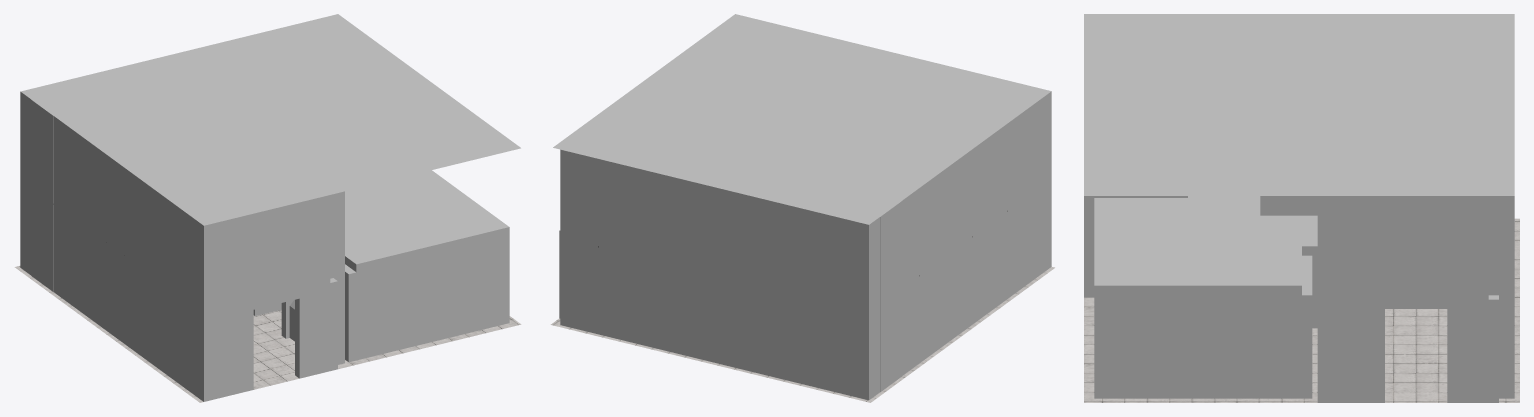
Rendered from LC_room2C.obj.
3 views of the same model, side by side, from view 1: azimuth 30°, elevation 25°; view 2: azimuth 150°, elevation 25°; view 3: azimuth 270°, elevation 25° (orthographic). The views are drawn at different scales.
Parts seen in each view (by area): view 1: LC_room2C; view 2: LC_room2C; view 3: LC_room2C.
Part boxes in pixels (x1=…): LC_room2C: x1=14, y1=14, x2=521, y2=402; LC_room2C: x1=550, y1=14, x2=1054, y2=402; LC_room2C: x1=1084, y1=14, x2=1519, y2=402.
Size of the model in its own units: 13.44 by 7.04 by 13.44.
